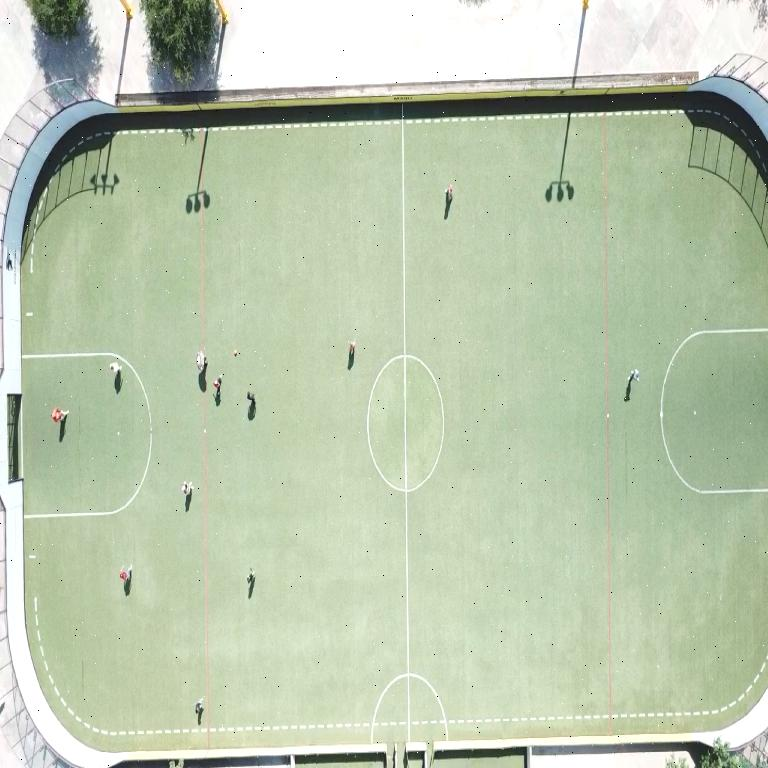AC: (29, 355, 152, 516), (660, 327, 768, 494), (22, 352, 110, 358)
B: (234, 349, 238, 355)
MC: (401, 105, 410, 741)
P: (51, 408, 68, 423), (247, 567, 255, 597), (196, 350, 206, 372), (347, 340, 354, 370), (119, 566, 131, 583), (212, 376, 221, 397), (181, 482, 192, 497), (109, 362, 120, 376), (446, 183, 453, 204), (194, 698, 203, 714), (628, 370, 638, 381), (246, 392, 254, 404)
